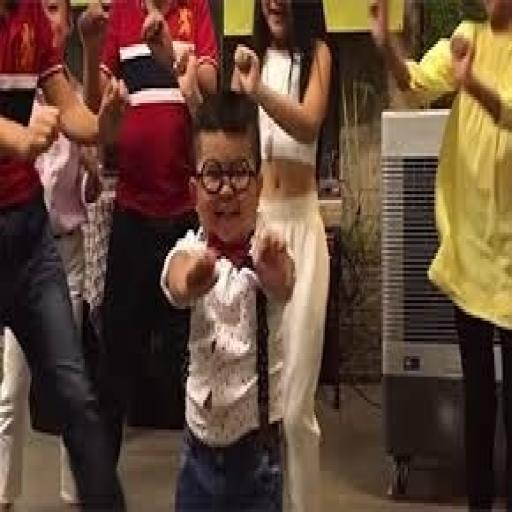dancing: (159, 85, 298, 509)
